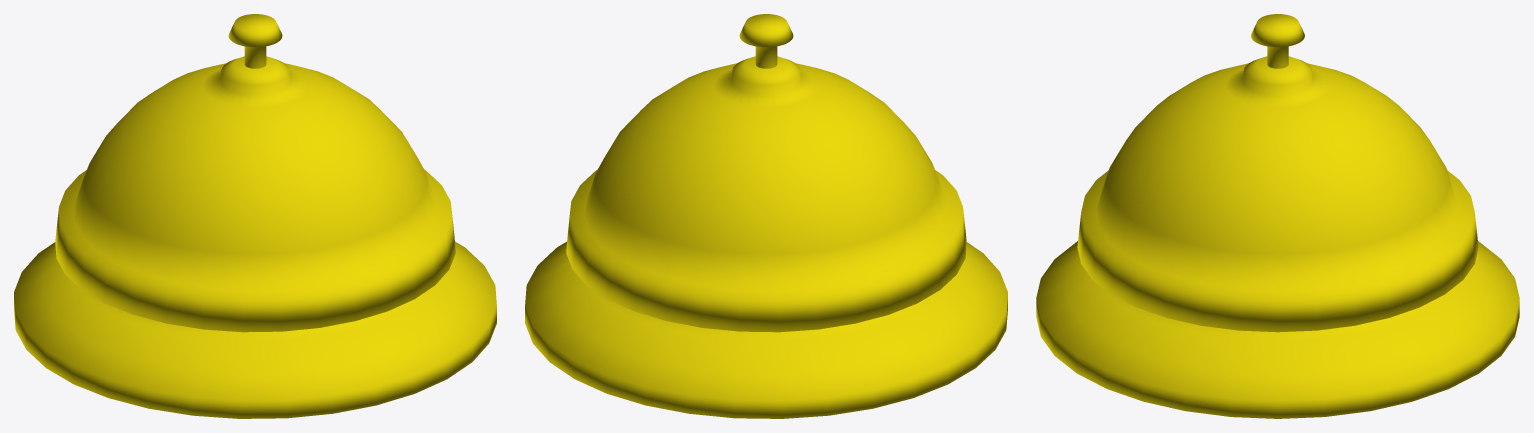
File: deskbell.fbx
The picture shows the model from 3 angles, left to right: view 1: azimuth 30°, elevation 25°; view 2: azimuth 150°, elevation 25°; view 3: azimuth 270°, elevation 25°; orthographic projection.
Parts seen in each view (by area): view 1: bell, button; view 2: bell, button; view 3: bell, button.
Part boxes in pixels (x1=…): bell: x1=14, y1=56, x2=496, y2=418; button: x1=228, y1=14, x2=282, y2=68; bell: x1=525, y1=56, x2=1007, y2=418; button: x1=739, y1=14, x2=793, y2=68; bell: x1=1036, y1=56, x2=1519, y2=418; button: x1=1251, y1=14, x2=1304, y2=68.
Bounding box in the file's own units: 0.2202 × 0.1477 × 0.2202.
